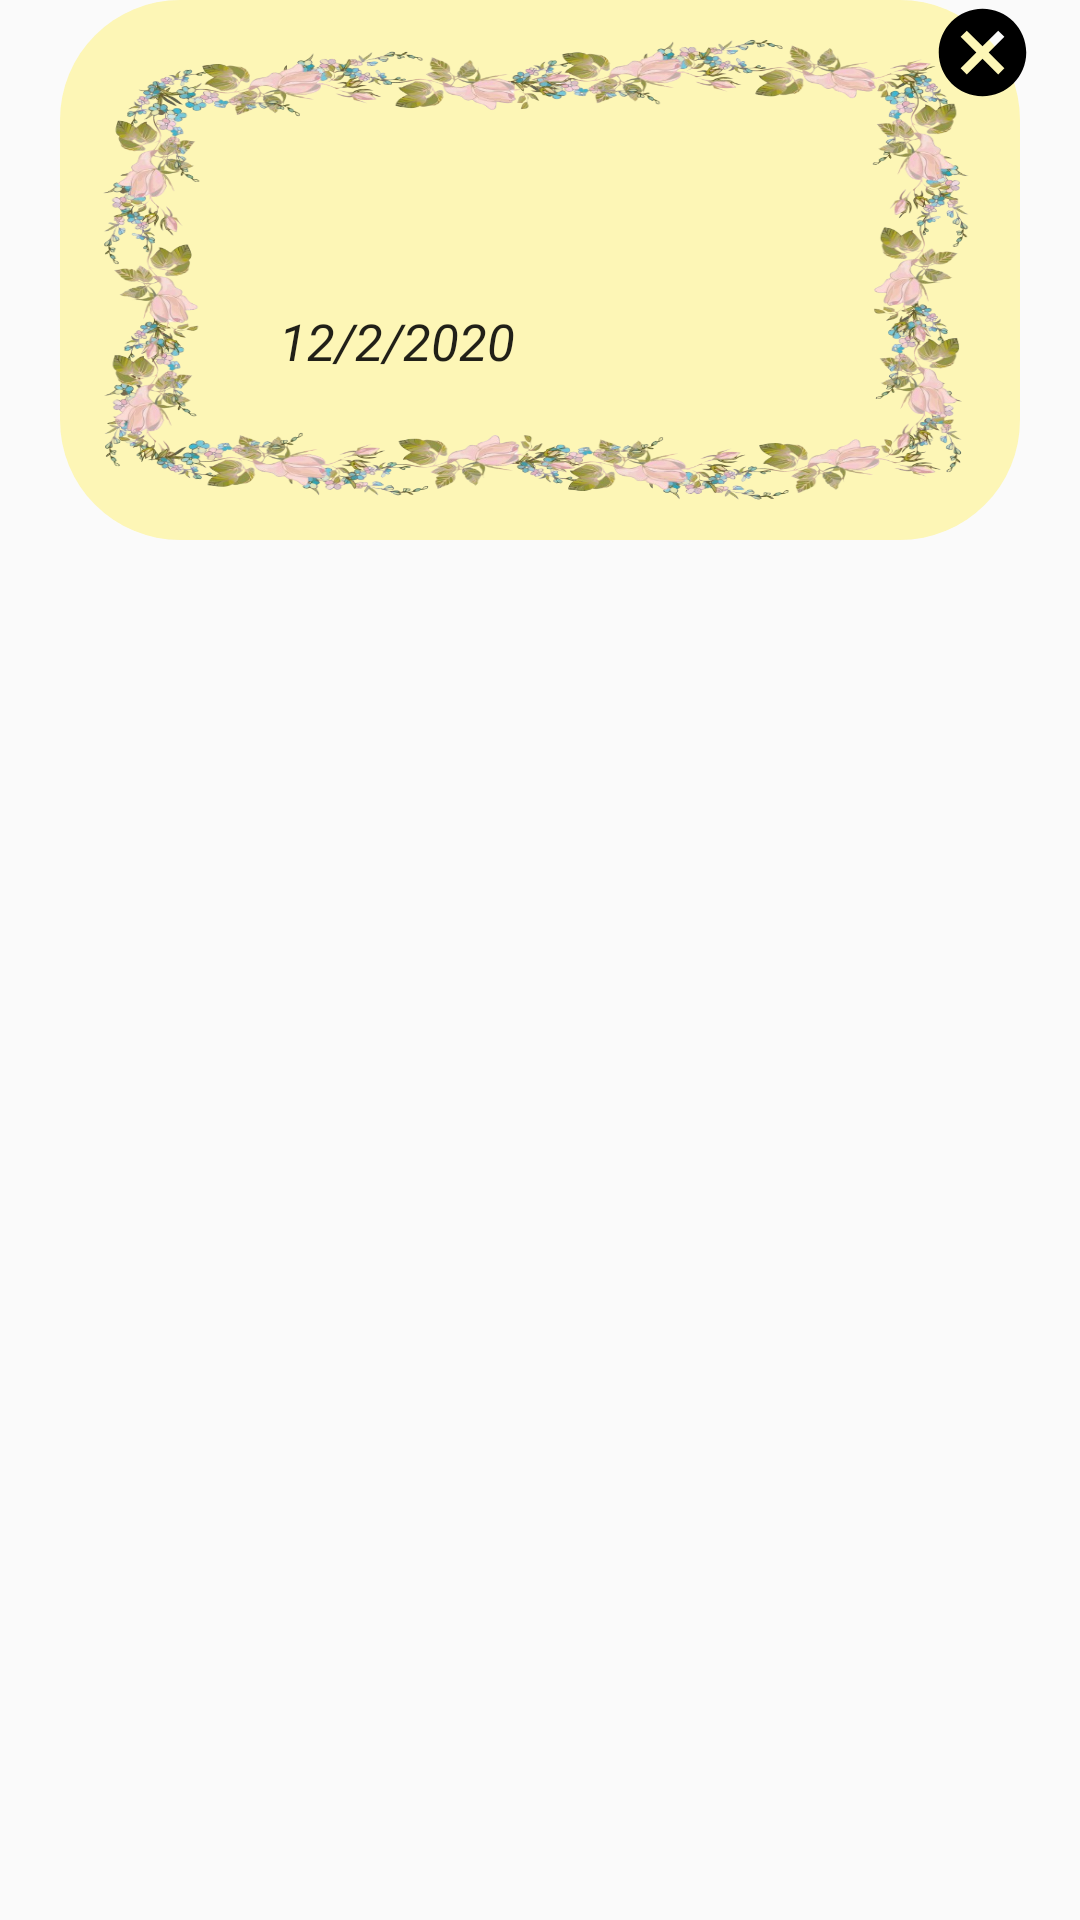

Where to tap for icons on this 1080×1920 app screen, as (x,y):
cancel: (982,52)
